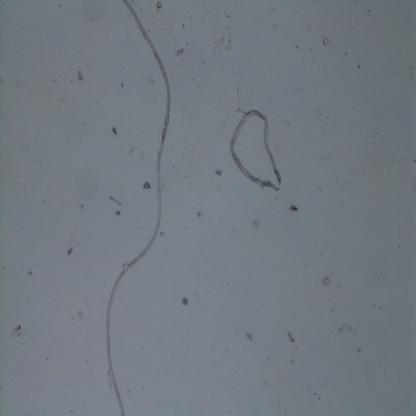Background material: (336, 323, 358, 338), (108, 194, 124, 206), (320, 274, 332, 288), (286, 329, 296, 345), (12, 323, 22, 338), (243, 331, 255, 343), (250, 218, 262, 230), (76, 68, 86, 82), (179, 296, 190, 308), (214, 168, 225, 180), (173, 48, 186, 58), (64, 244, 74, 257), (320, 36, 330, 48), (288, 202, 298, 214), (141, 182, 152, 192), (110, 125, 118, 137), (154, 1, 164, 10), (354, 61, 363, 70), (114, 208, 121, 218), (195, 210, 203, 218)
Cellulose filter fibre: (228, 109, 283, 192)
Microfibre: (105, 1, 173, 415)
